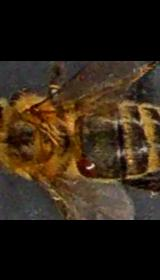varroa_mite: (73, 151, 100, 187)
